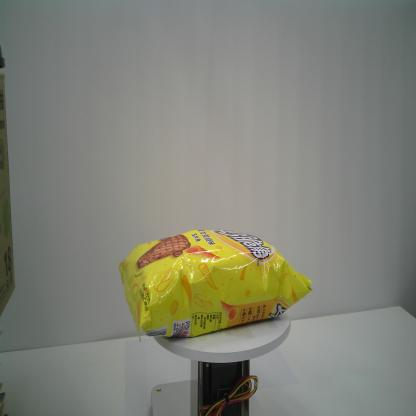Puffed Food: (117, 226, 314, 344)
